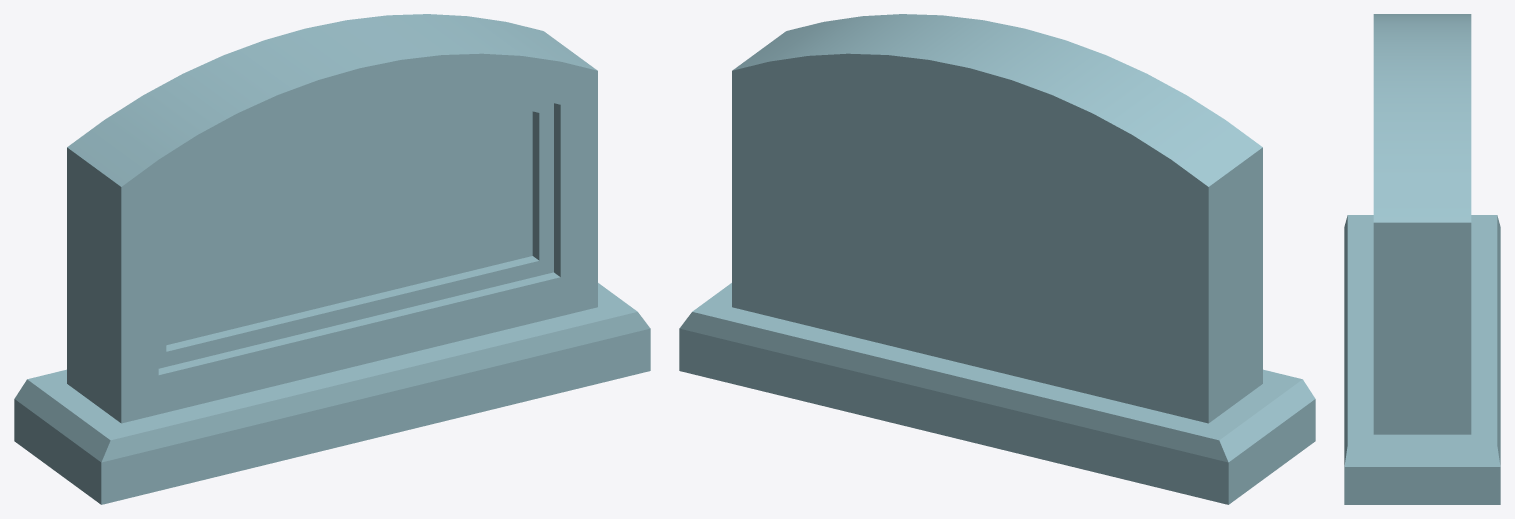
File: gravestoneWide.fbx
3 renders of one model, left to right at view 1: azimuth 30°, elevation 25°; view 2: azimuth 150°, elevation 25°; view 3: azimuth 270°, elevation 25°, orthographic. The views are drawn at different scales.
Parts seen in each view (by area): view 1: gravestoneWide; view 2: gravestoneWide; view 3: gravestoneWide.
Part boxes in pixels (x1,y1,x2,y2): gravestoneWide: (14,14,650,504); gravestoneWide: (679,14,1315,504); gravestoneWide: (1344,14,1500,504).
Size of the model in its own units: 7.87 by 4.9 by 2.16.
